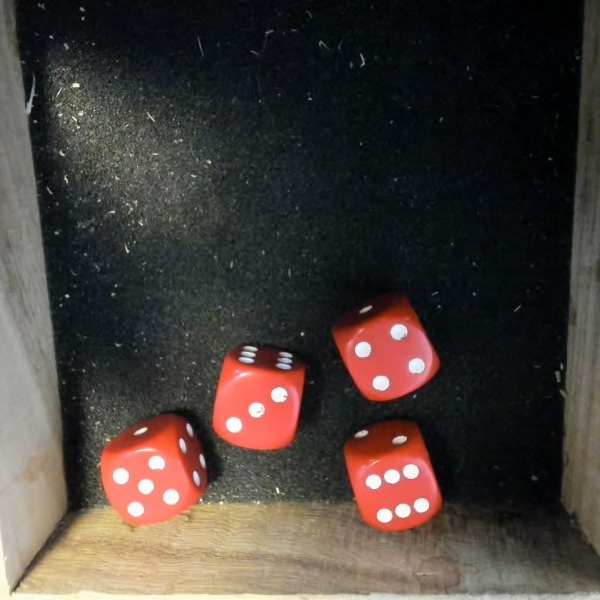red_die_pip3: (209, 341, 310, 451)
red_die_pip4: (325, 292, 448, 414)
red_die_pip5: (93, 406, 215, 531)
red_die_pip6: (336, 414, 445, 536)
